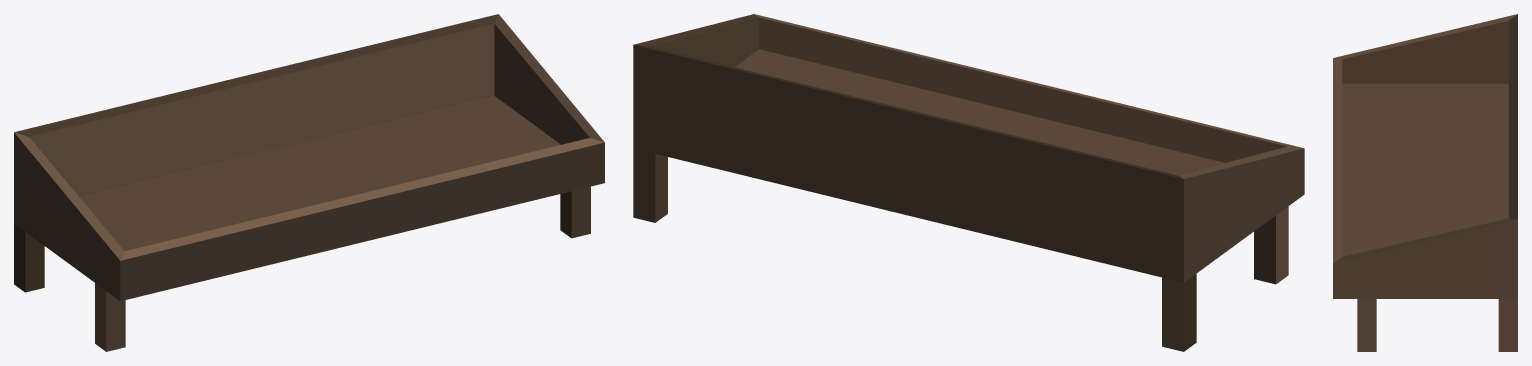
The model's file is Prop_MerchantTableE.fbx.
3 views of the same model, side by side, from view 1: azimuth 30°, elevation 25°; view 2: azimuth 150°, elevation 25°; view 3: azimuth 270°, elevation 25° (orthographic). The views are drawn at different scales.
Parts seen in each view (by area): view 1: Prop_MerchantTableE; view 2: Prop_MerchantTableE; view 3: Prop_MerchantTableE.
Boxes of the visible parts, bbox=[...] form: Prop_MerchantTableE: bbox=[14, 14, 604, 351]; Prop_MerchantTableE: bbox=[633, 14, 1304, 351]; Prop_MerchantTableE: bbox=[1333, 14, 1517, 351].
Size of the model in its own units: 250 by 75 by 95.
